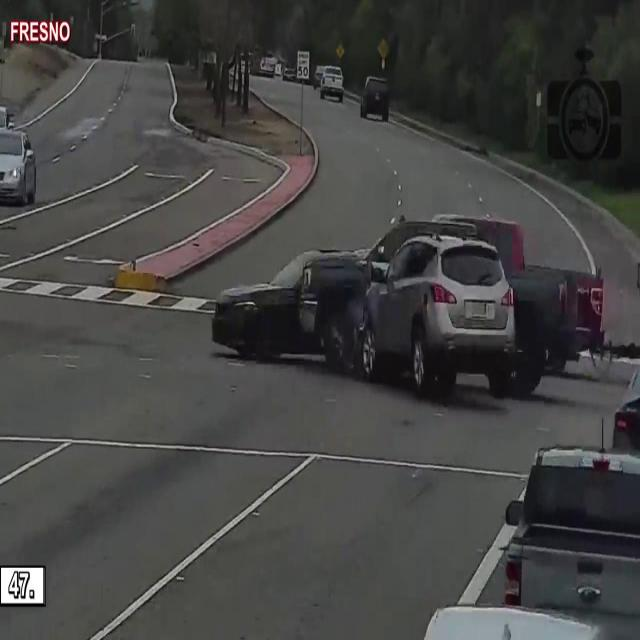accident: (197, 191, 543, 429)
